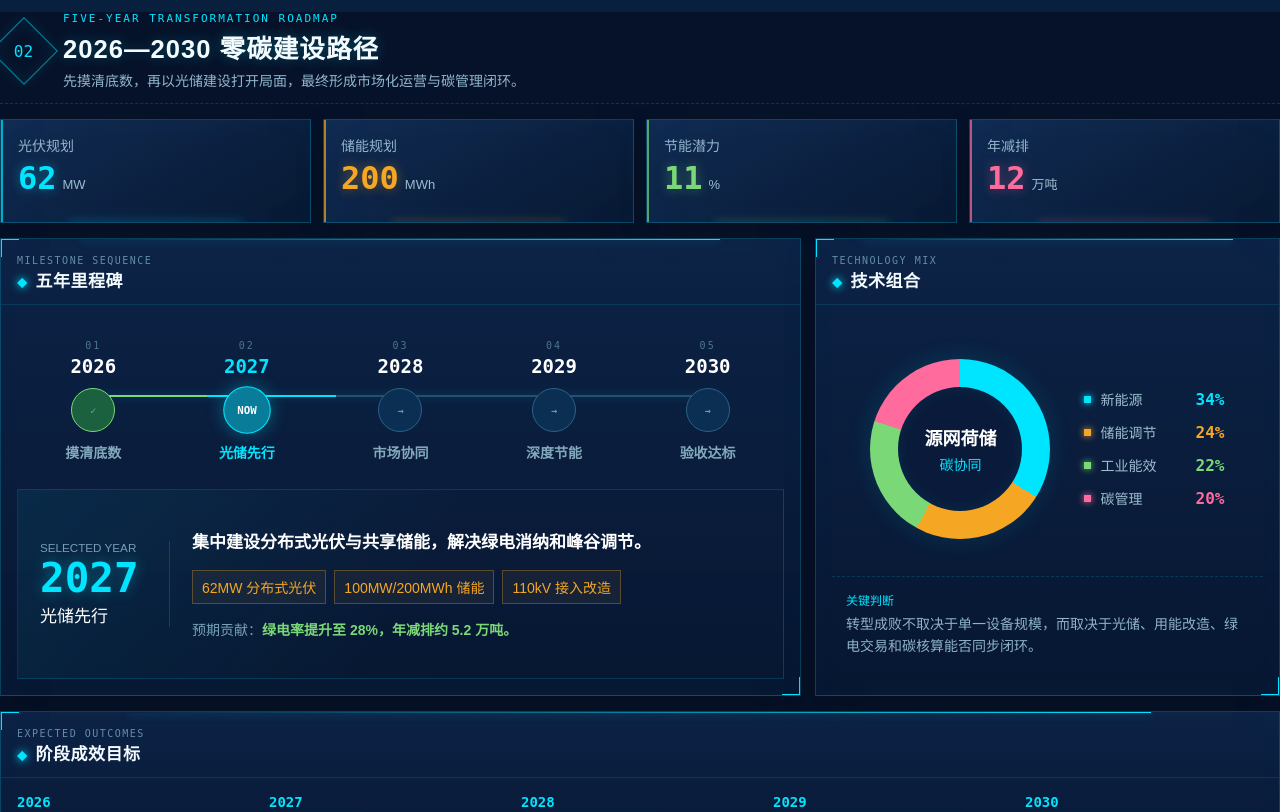
Test: RoadmapPage › updates milestone detail when a year is selected
Click the button "03 2028 → 市场协同". click: (400, 401)
box: [326,339,475,463]
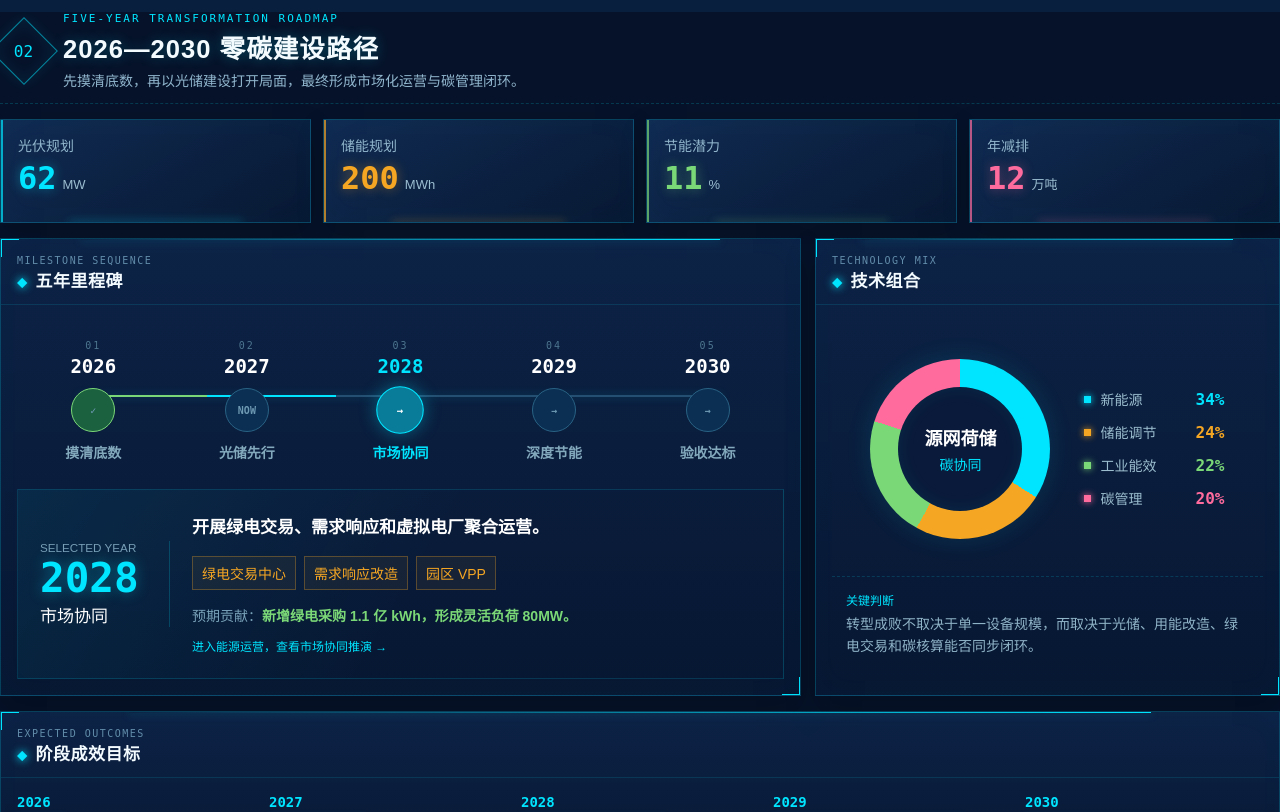
Result: the element with test id "roadmap-detail" shows "绿电交易" at [192,518,549,537]
Result: the element with test id "roadmap-detail" shows "VPP" at [426,566,486,582]
Result: the link with test id "roadmap-operation-link" shows "进入能源运营" at [192,640,387,654]
